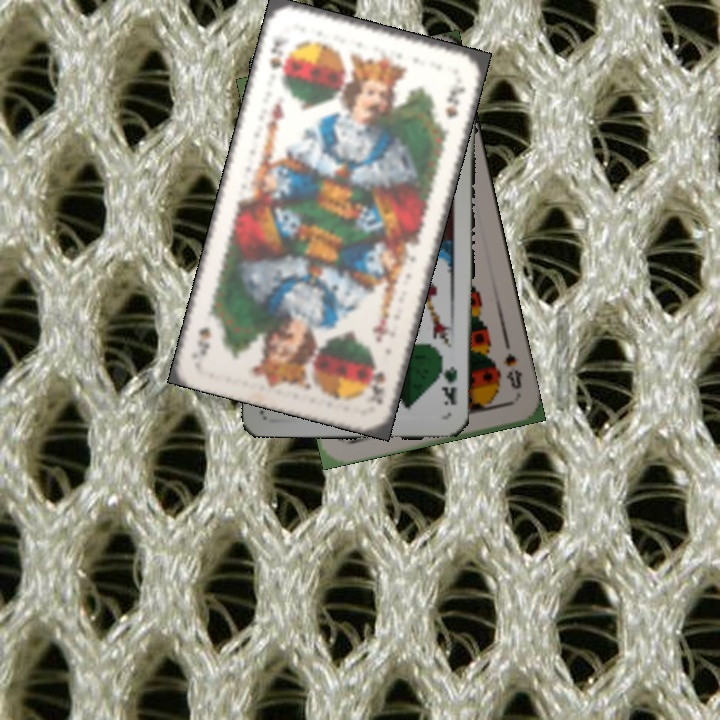GK: (436, 355, 460, 408)
S8: (499, 349, 525, 392)
SK: (364, 358, 389, 408), (265, 36, 291, 84)
